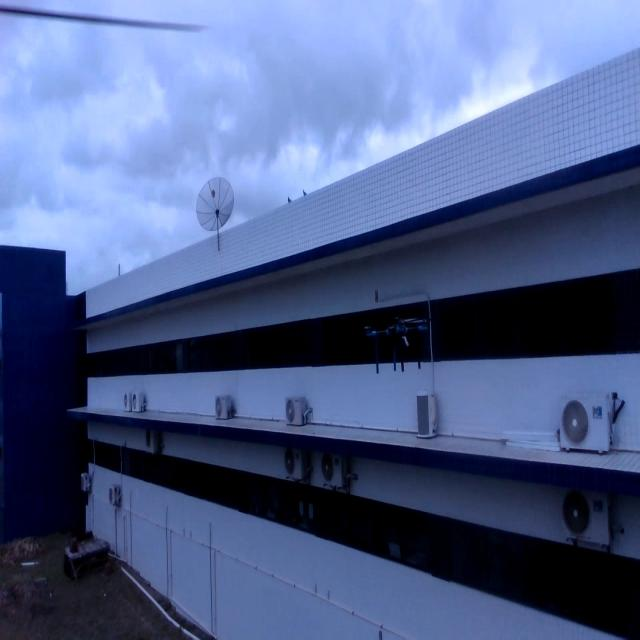-uav-: (364, 309, 434, 386)
